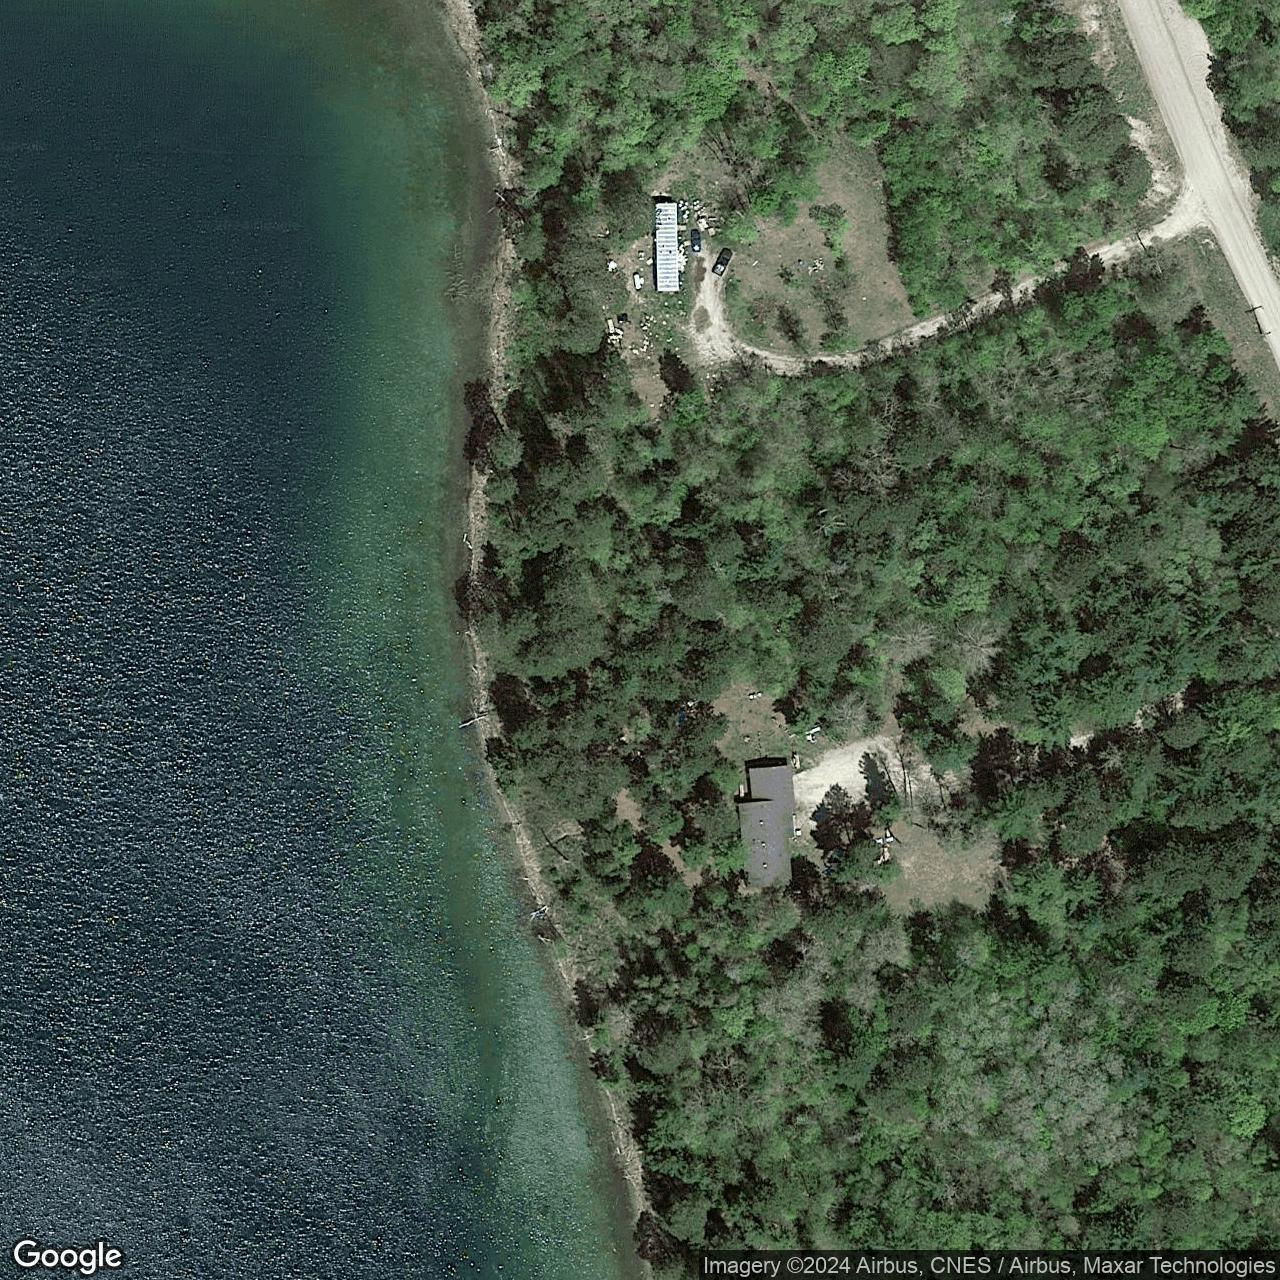House: (736, 764, 795, 886)
Propane: (632, 268, 644, 292), (738, 782, 745, 798)
Trailer: (654, 199, 681, 293)
